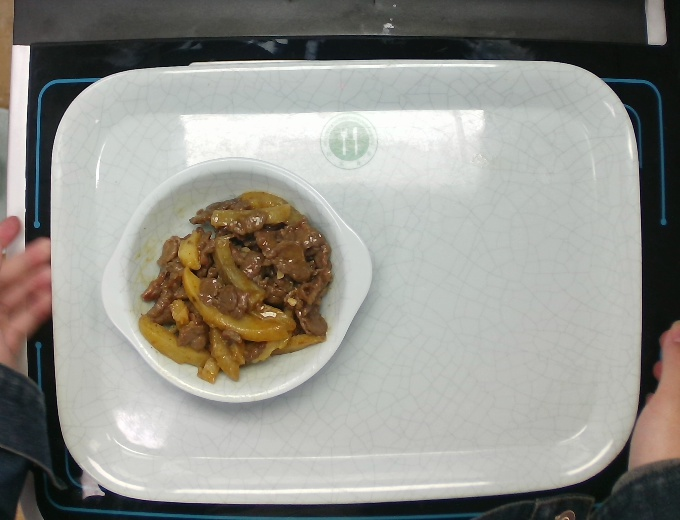JYsf-Shuang_Er_Wan: (97, 157, 383, 409)
